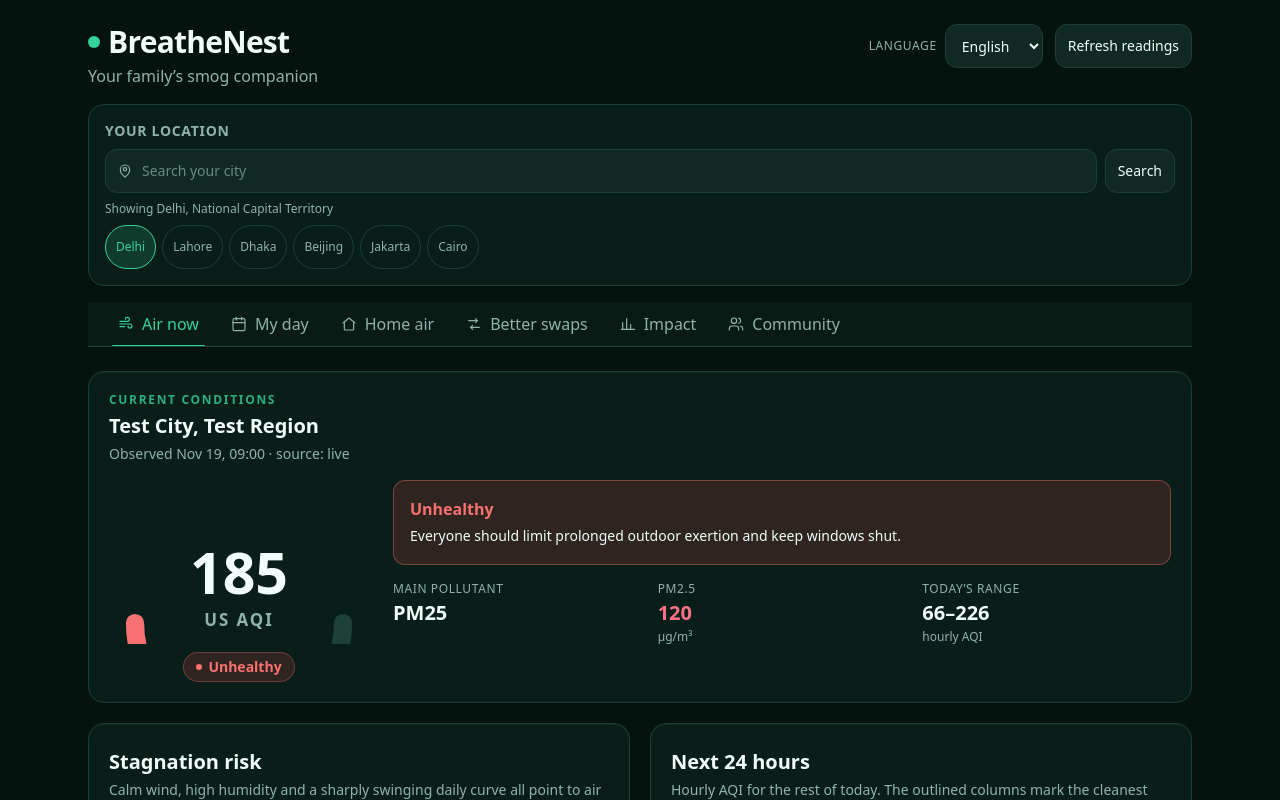
Test: swaps → impact ledger › starts with an honest empty state
Click the tab "Impact" at (658, 324), box [606,302,710,346]
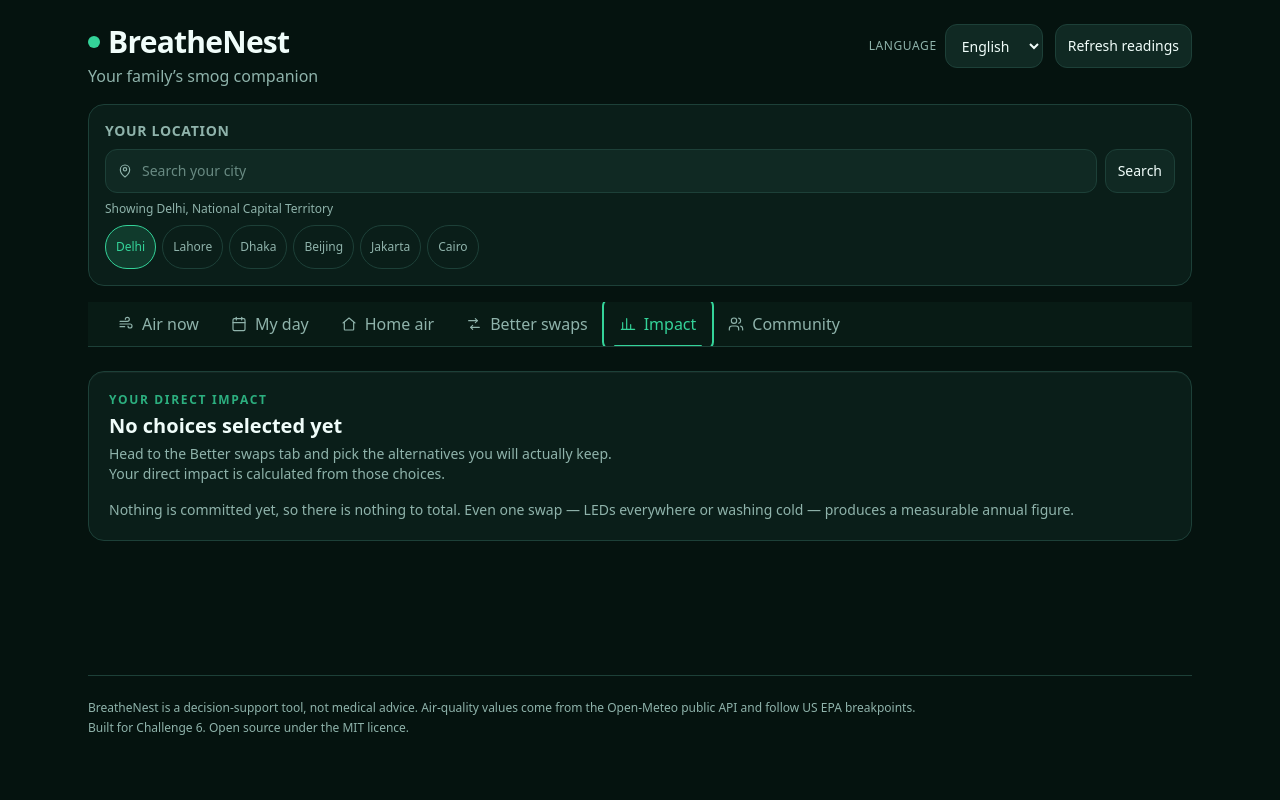
Now the heading "No choices selected yet" is shown, box [109,412,342,439]
Now the text "Head to the Better swaps tab" is shown, box [109,444,612,483]
